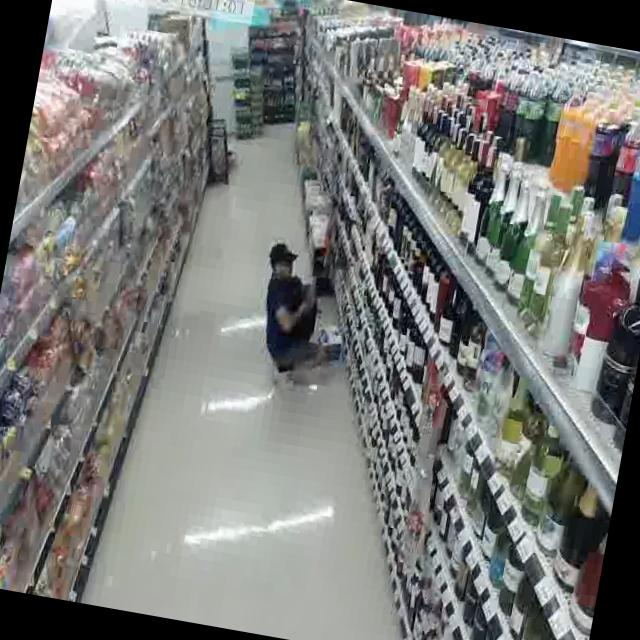shoplifting: (225, 223, 359, 410)
